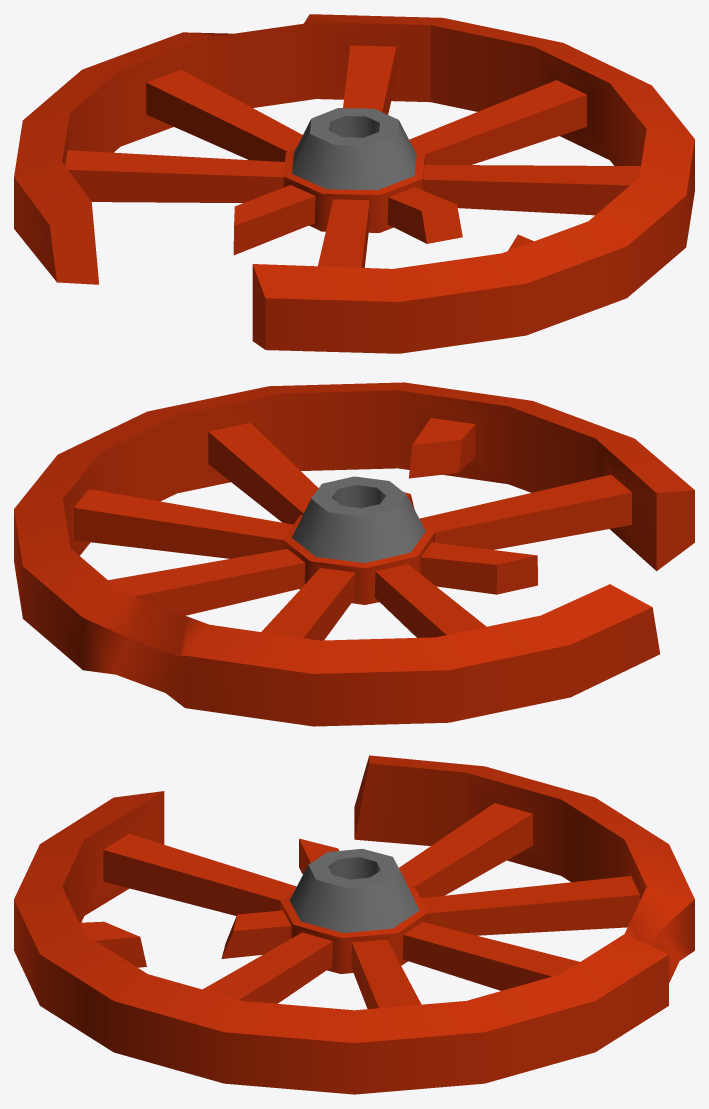
Rendered from broken wheel.fbx.
3 renders of one model, top to bottom at view 1: azimuth 30°, elevation 25°; view 2: azimuth 150°, elevation 25°; view 3: azimuth 270°, elevation 25°, orthographic. The views are drawn at different scales.
Parts seen in each view (by area): view 1: borken wheel; view 2: borken wheel; view 3: borken wheel.
Part boxes in pixels (<box>): borken wheel: <box>14,14,694,353</box>; borken wheel: <box>14,382,694,726</box>; borken wheel: <box>14,755,694,1094</box>.
Size of the model in its own units: 129 by 19.87 by 129.
